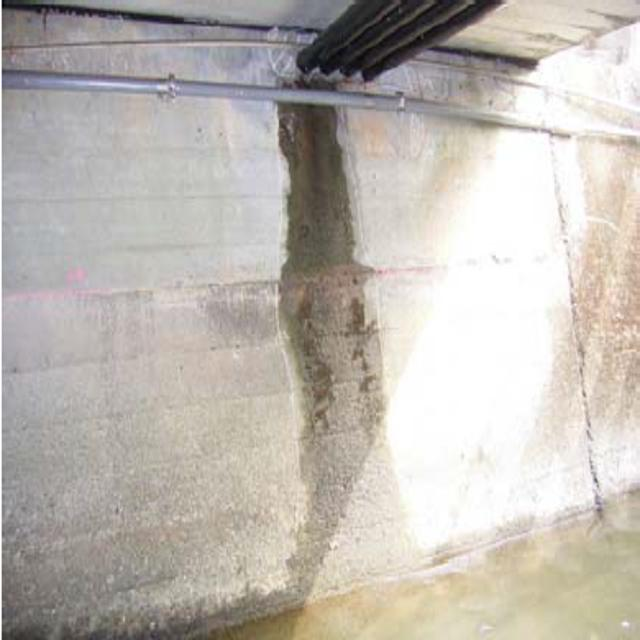leakage: (274, 100, 406, 580)
